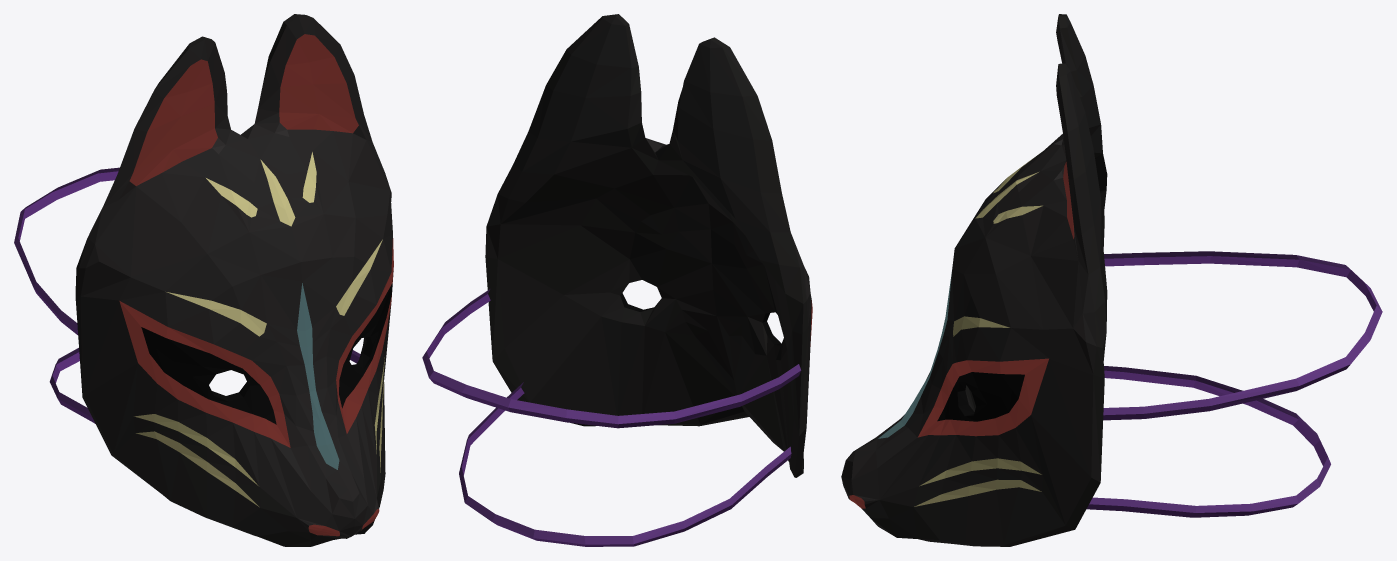
Rendered from kitsuneMaskBlack.glb.
3 views of the same model, side by side, from view 1: azimuth 30°, elevation 25°; view 2: azimuth 150°, elevation 25°; view 3: azimuth 270°, elevation 25° (orthographic). The views are drawn at different scales.
Parts seen in each view (by area): view 1: kitsuneMaskBlack; view 2: kitsuneMaskBlack; view 3: kitsuneMaskBlack.
Boxes of the visible parts, left/top/right/bottom form: kitsuneMaskBlack: left=14, top=14, right=393, bottom=546; kitsuneMaskBlack: left=422, top=14, right=812, bottom=546; kitsuneMaskBlack: left=841, top=14, right=1382, bottom=546.
Size of the model in its own units: 0.268 by 0.3744 by 0.3862.
